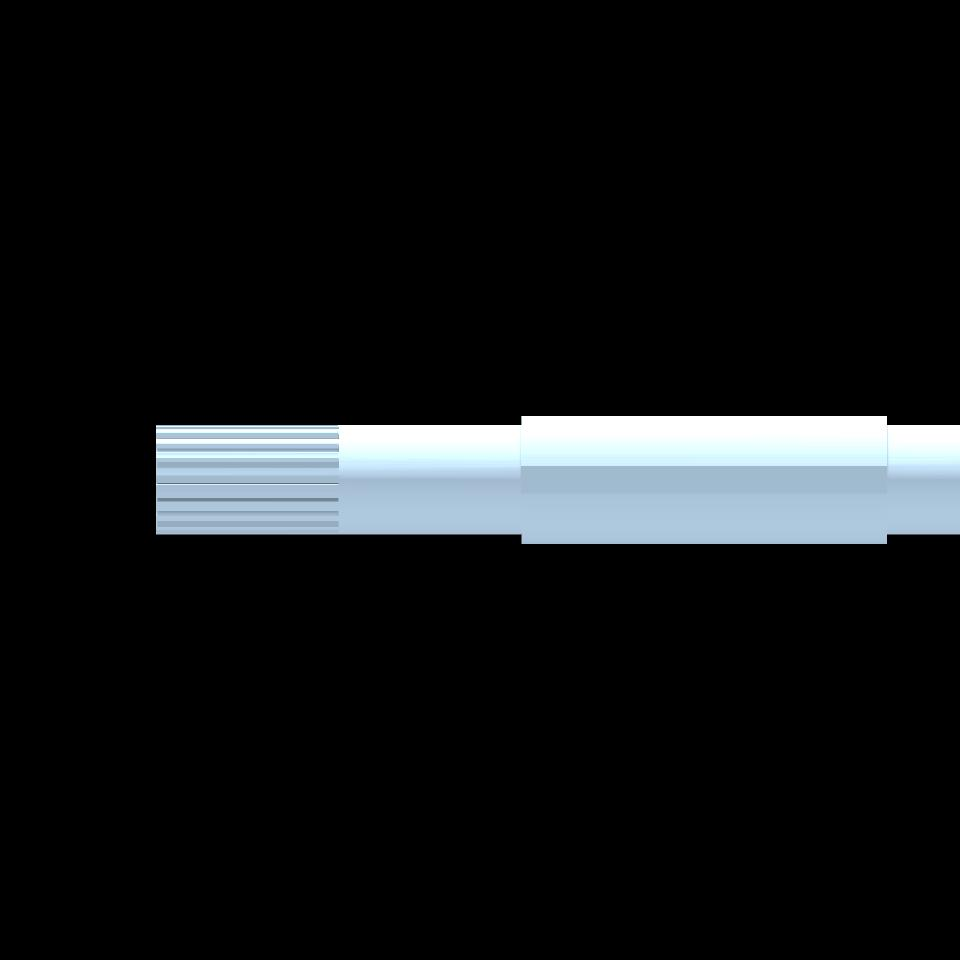Straight: (156, 425, 338, 533)
